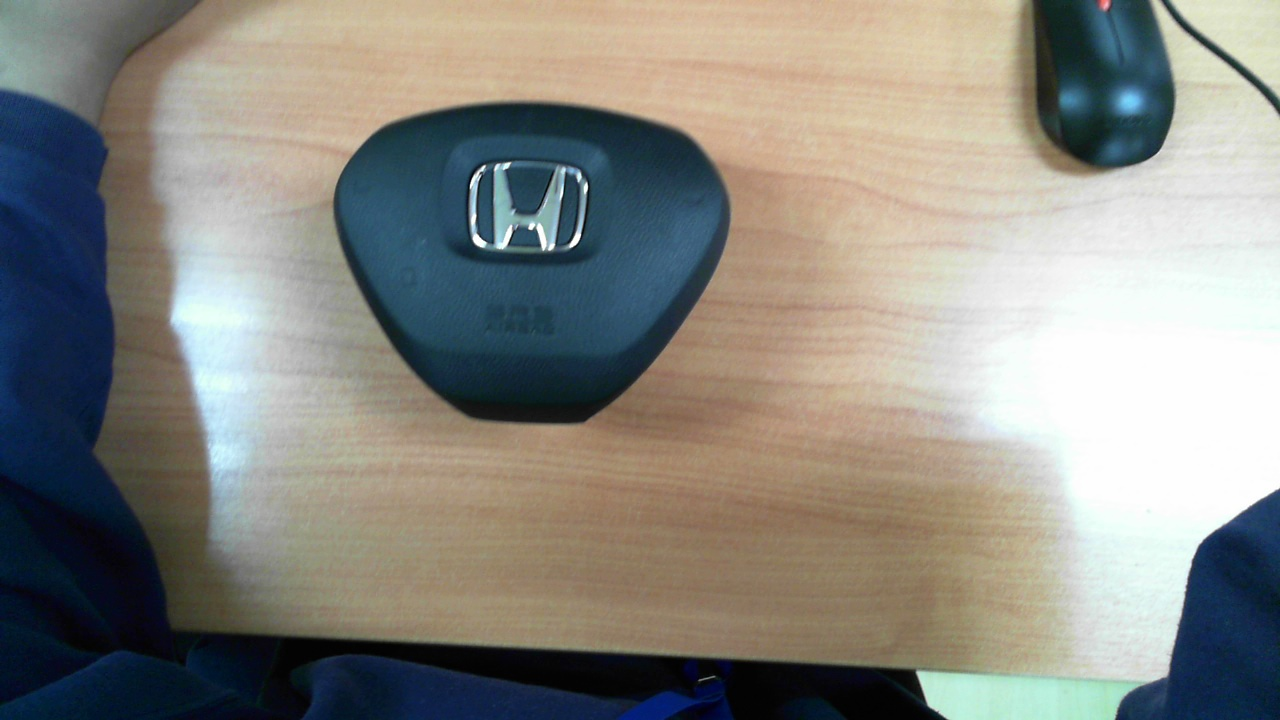Airbag: (333, 102, 730, 424)
